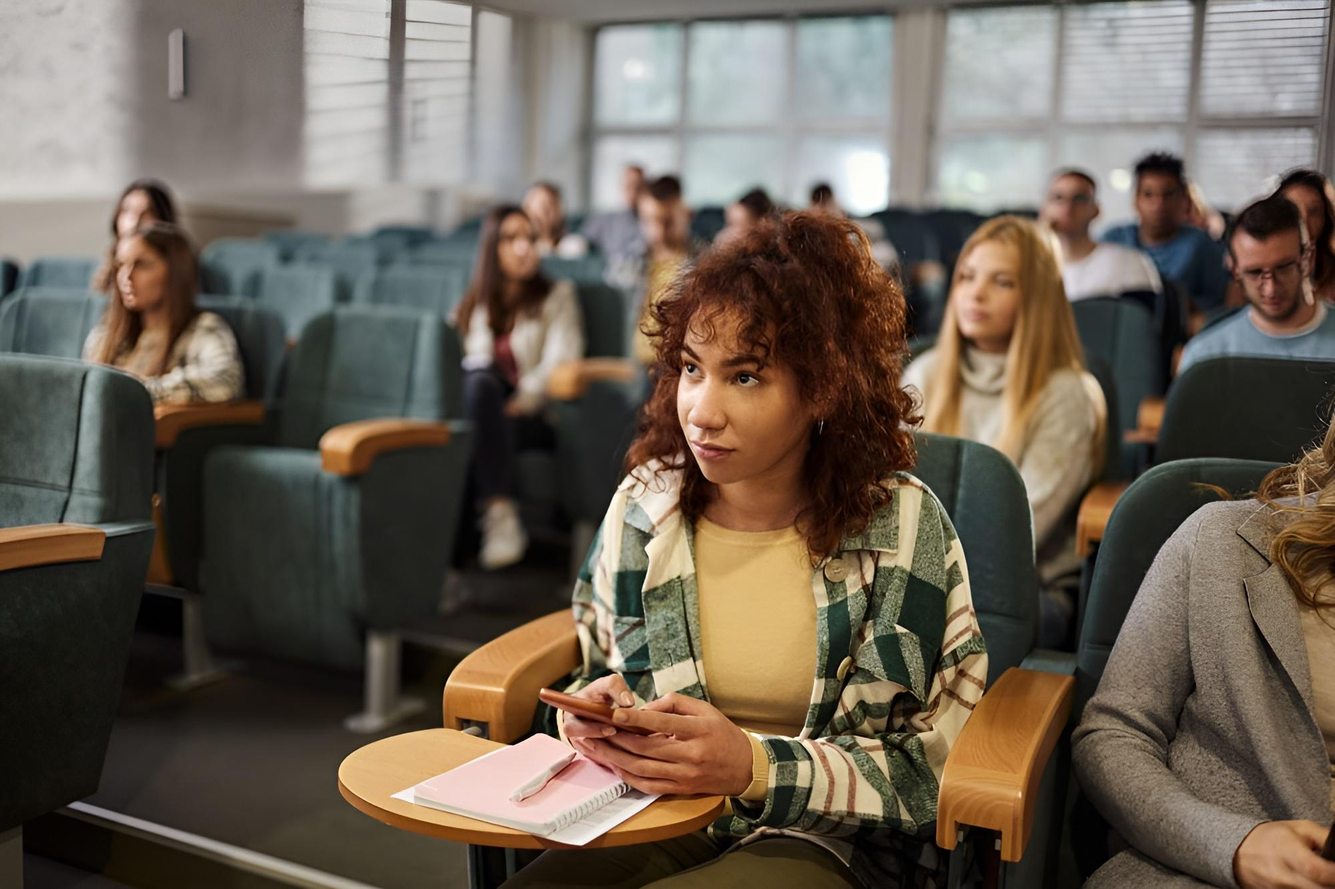phone: (539, 211, 987, 769)
